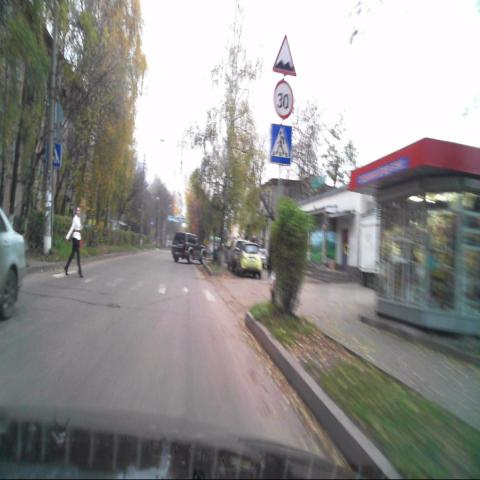1_16: (273, 37, 297, 75)
